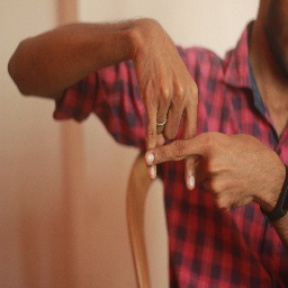H: (128, 75, 225, 228)
